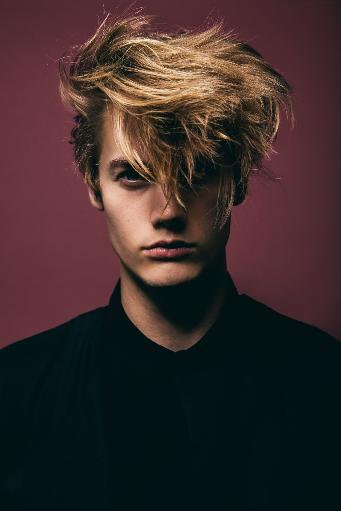left_lip_corner: (189, 242, 199, 253)
right_eye: (114, 168, 153, 192)
right_lip_corner: (138, 244, 149, 257)
